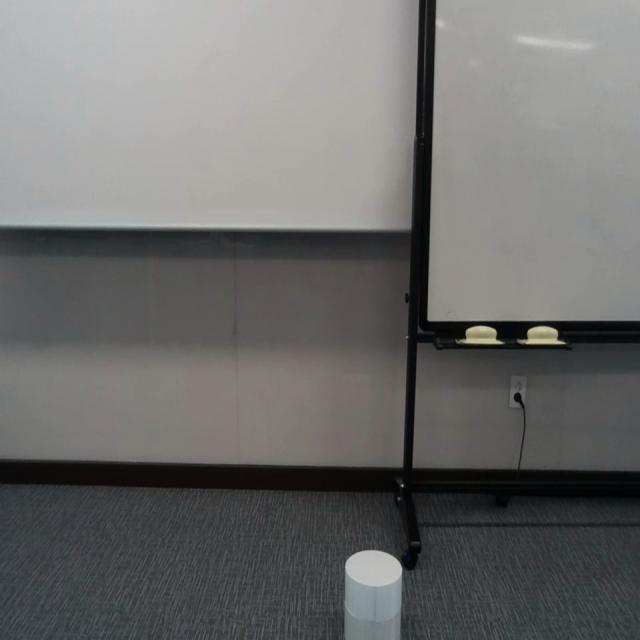cylinder: (344, 547, 402, 640)
